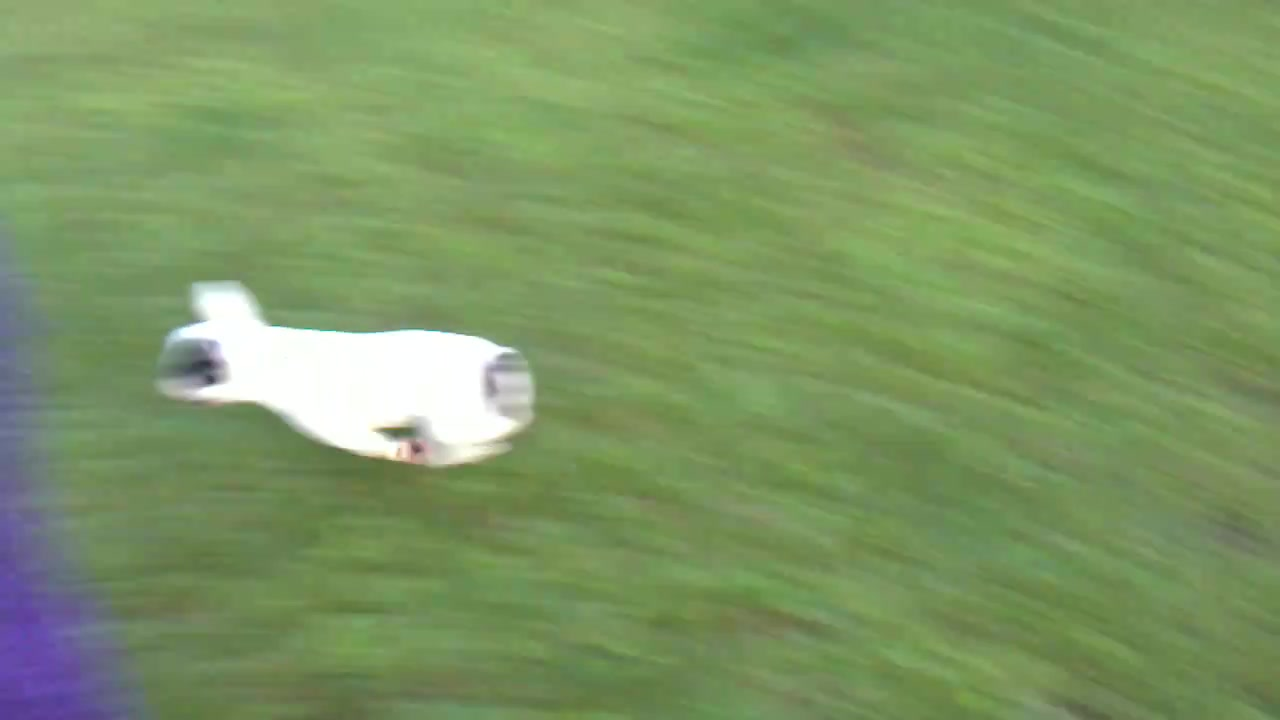dog: (145, 279, 540, 473)
